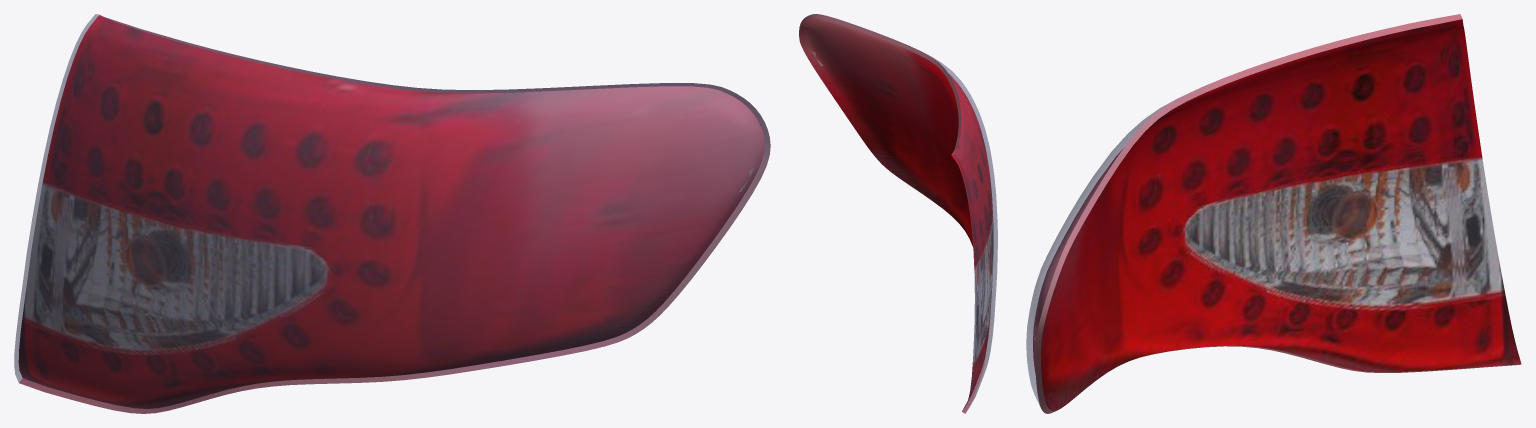
The picture shows the model from 3 angles, left to right: view 1: azimuth 30°, elevation 25°; view 2: azimuth 150°, elevation 25°; view 3: azimuth 270°, elevation 25°; orthographic projection. The views are drawn at different scales.
Parts seen in each view (by area): view 1: Y212_541C_R_1_DTaSI_Y212_541C_R, Y212_541C_R_Y212_541C_R_2_N; view 2: Y212_541C_R_Y212_541C_R_2_N, Y212_541C_R_1_DTaSI_Y212_541C_R; view 3: Y212_541C_R_Y212_541C_R_2_N, Y212_541C_R_1_DTaSI_Y212_541C_R.
Boxes of the visible parts, x1,y1,x2,y2 form: Y212_541C_R_1_DTaSI_Y212_541C_R: (14, 14, 770, 413); Y212_541C_R_Y212_541C_R_2_N: (18, 14, 770, 413); Y212_541C_R_Y212_541C_R_2_N: (799, 14, 993, 413); Y212_541C_R_1_DTaSI_Y212_541C_R: (927, 54, 997, 413); Y212_541C_R_Y212_541C_R_2_N: (1033, 14, 1521, 413); Y212_541C_R_1_DTaSI_Y212_541C_R: (1026, 97, 1179, 406).
Bounding box in the file's own units: 31.89 × 22.38 × 26.92.
